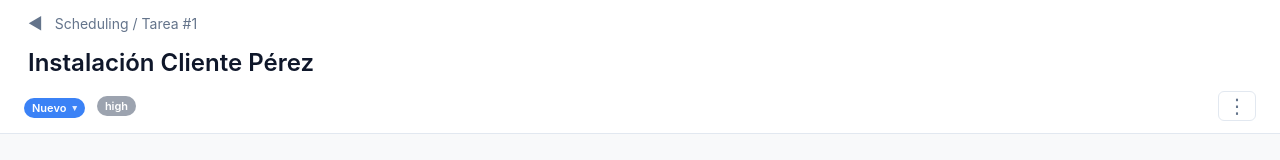
Scenario: TaskHeader › cancels title edit on Escape
Click the button "Instalación Cliente Pérez" at (171, 63), box [24,43,318,83]
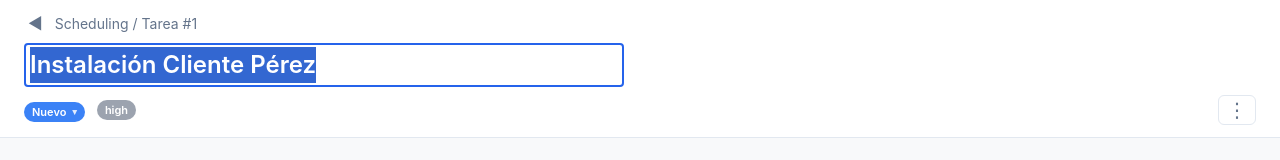
Press Escape
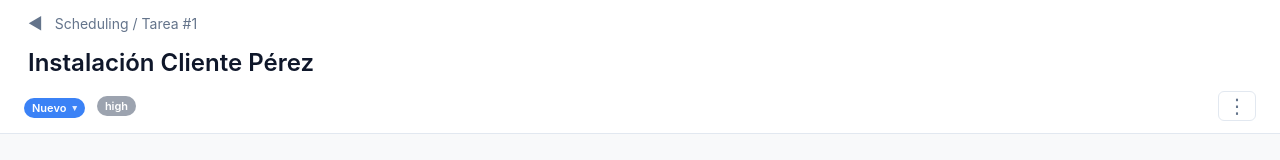
Result: the field is gone
